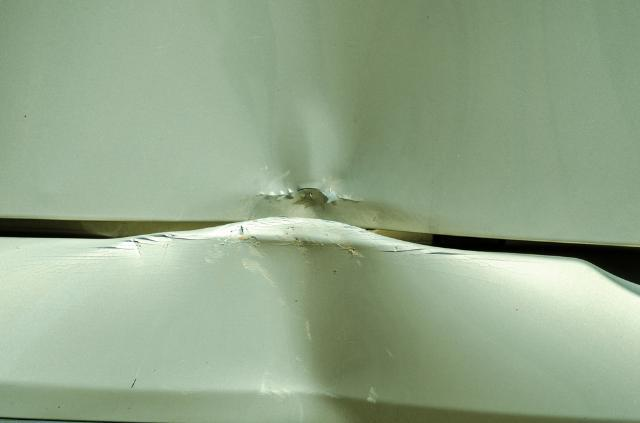dent: (228, 217, 409, 423), (242, 103, 402, 229)
